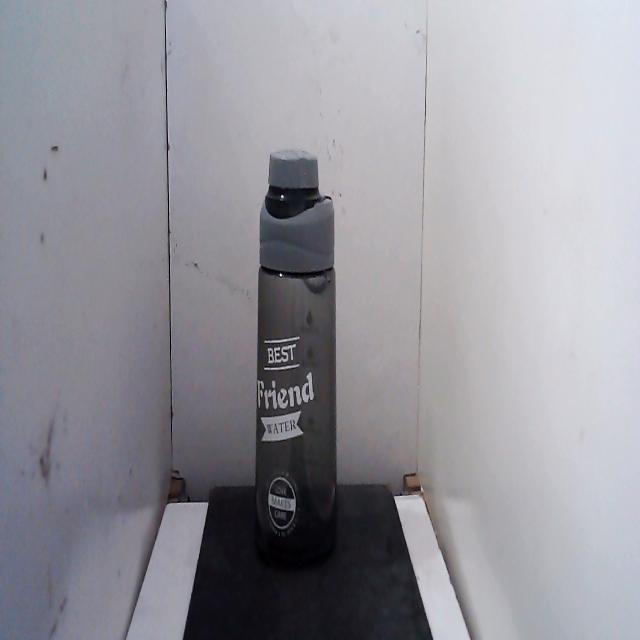plastico: (249, 143, 343, 582)
